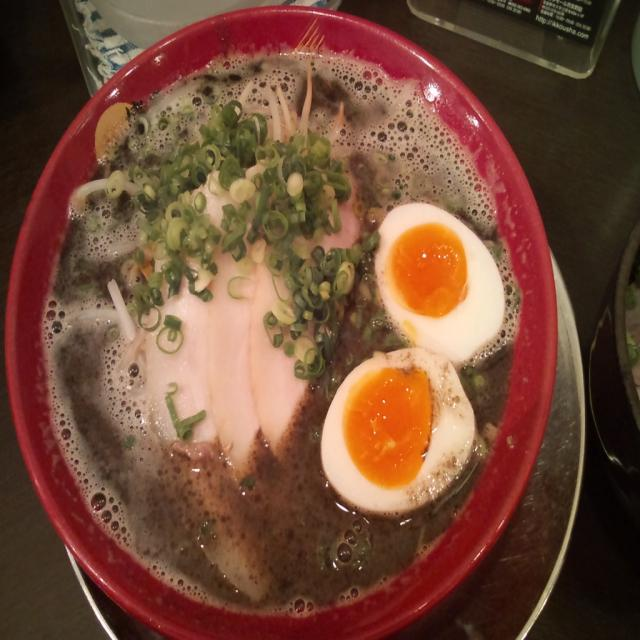Egg: (320, 347, 478, 518), (372, 202, 505, 364)
